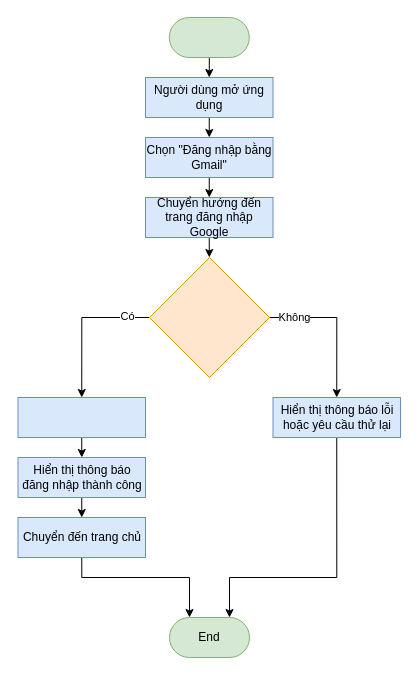
The diagram is 418 pixels wide and 675 high, and some of its shapes have lost their labels. The shapes that lost their labels are listed below. From the top down, each one's centre as x and y in pixels, then its label:
At point (208, 37): "Start".
At point (209, 317): "Người dùng chấp nhận quyền truy cập?".
At point (81, 417): "Đăng nhập thành công".
